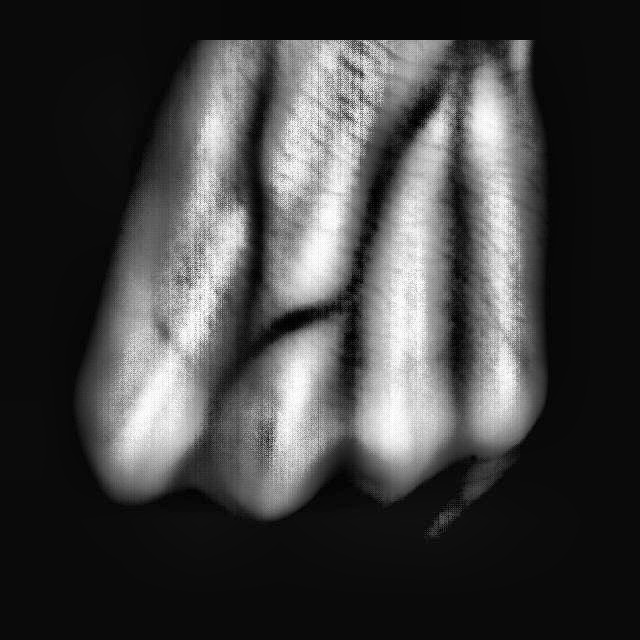Vein: (334, 83, 442, 287), (231, 57, 286, 280)
